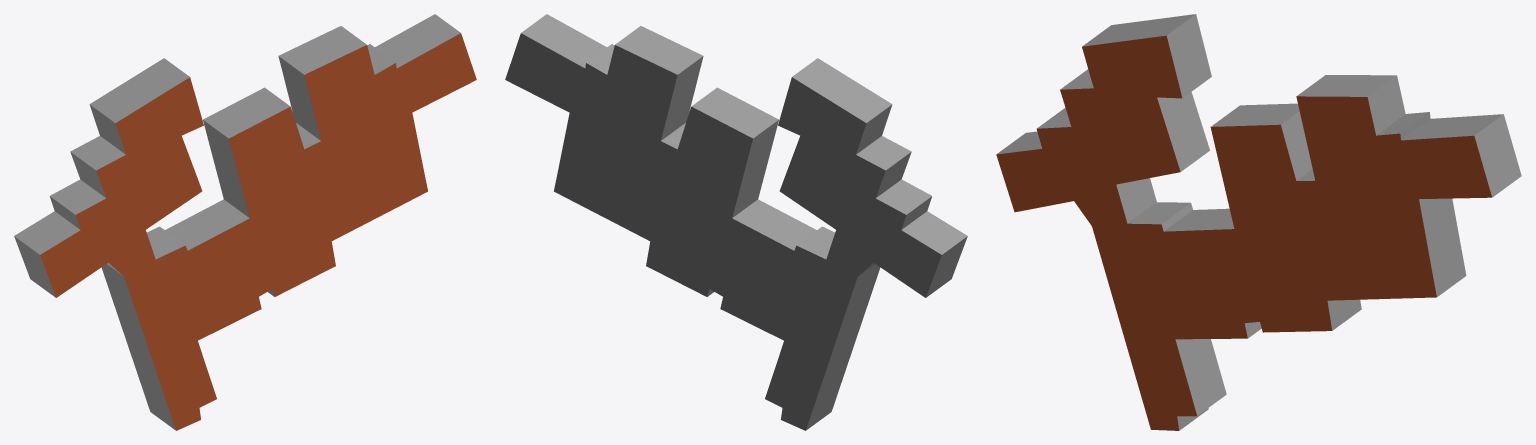
The model's file is construction_4663_assumed_A_Casa_h6m.obj.
3 views of the same model, side by side, from view 1: azimuth 30°, elevation 25°; view 2: azimuth 150°, elevation 25°; view 3: azimuth 330°, elevation 25° (orthographic). The views are drawn at different scales.
Parts seen in each view (by area): view 1: construction_4663_assumed_A_Casa; view 2: construction_4663_assumed_A_Casa; view 3: construction_4663_assumed_A_Casa.
Part boxes in pixels (left/top/right/bottom): construction_4663_assumed_A_Casa: left=14, top=14, right=476, bottom=430; construction_4663_assumed_A_Casa: left=505, top=14, right=967, bottom=430; construction_4663_assumed_A_Casa: left=996, top=14, right=1521, bottom=430.
Size of the model in its own units: 58.24 by 44.66 by 6.
